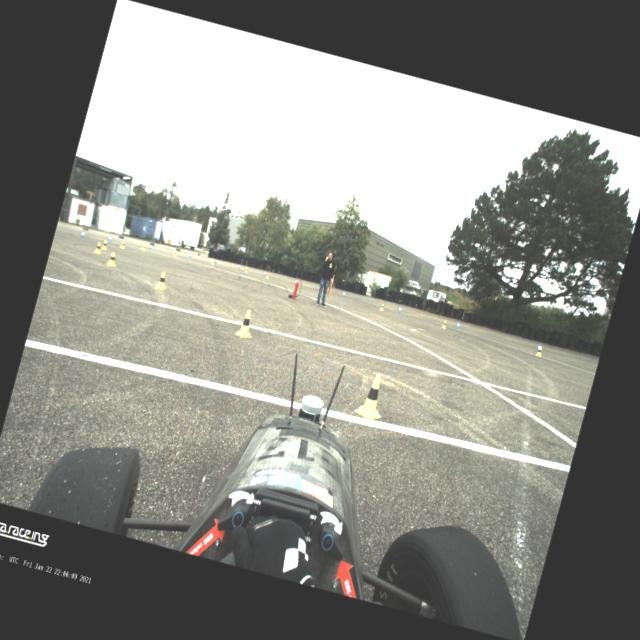blue_cone: (80, 229, 86, 237), (397, 304, 402, 312), (536, 342, 540, 352), (456, 321, 460, 329), (108, 235, 112, 242), (148, 243, 152, 250), (342, 290, 346, 296), (188, 252, 192, 257), (214, 258, 217, 263), (237, 264, 240, 268), (264, 270, 266, 275), (295, 278, 297, 282)
yellow_cone: (352, 371, 390, 422), (234, 308, 258, 339), (154, 270, 169, 290), (106, 252, 117, 266), (92, 242, 102, 254), (534, 346, 544, 356), (100, 240, 108, 250), (440, 320, 448, 330), (119, 240, 126, 249), (378, 302, 384, 311), (140, 243, 146, 250), (172, 250, 178, 256), (210, 258, 215, 264), (244, 266, 248, 272), (266, 272, 270, 278)
